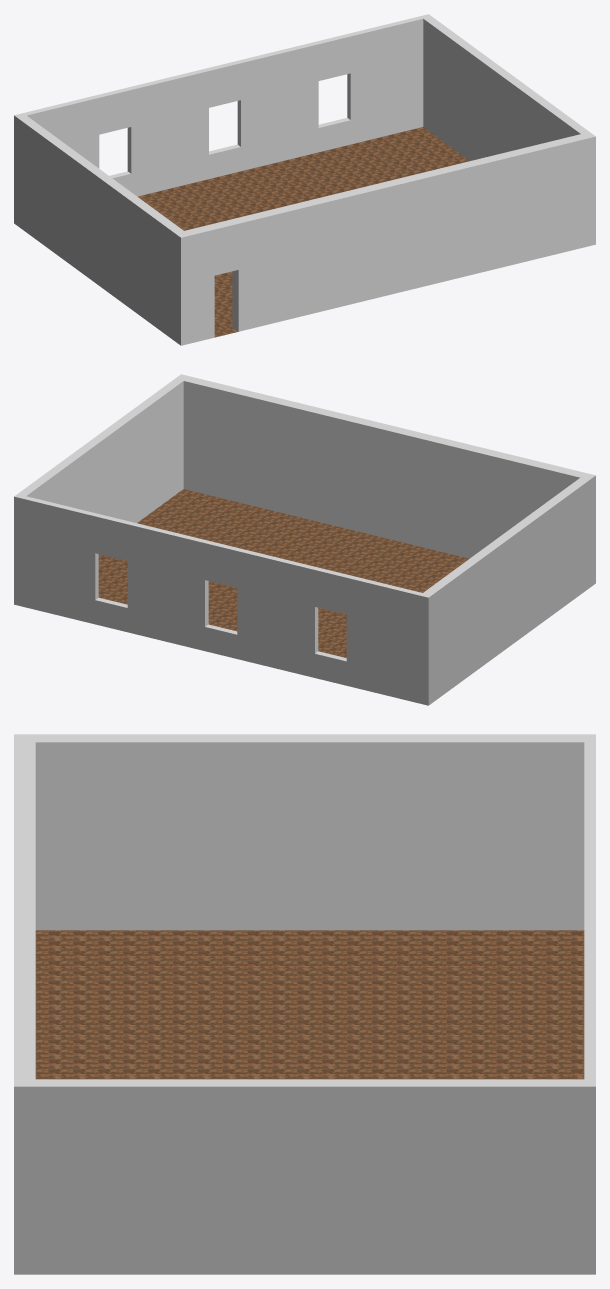
Rendered from classroom.fbx.
The picture shows the model from 3 angles, top to bottom: view 1: azimuth 30°, elevation 25°; view 2: azimuth 150°, elevation 25°; view 3: azimuth 270°, elevation 25°; orthographic projection. The views are drawn at different scales.
Parts seen in each view (by area): view 1: Classroom 1.010; view 2: Classroom 1.010; view 3: Classroom 1.010.
Boxes of the visible parts, x1=… form: Classroom 1.010: x1=14, y1=14, x2=595, y2=345; Classroom 1.010: x1=14, y1=374, x2=595, y2=705; Classroom 1.010: x1=14, y1=734, x2=595, y2=1274.
Size of the model in its own units: 2732 by 680 by 1907.
